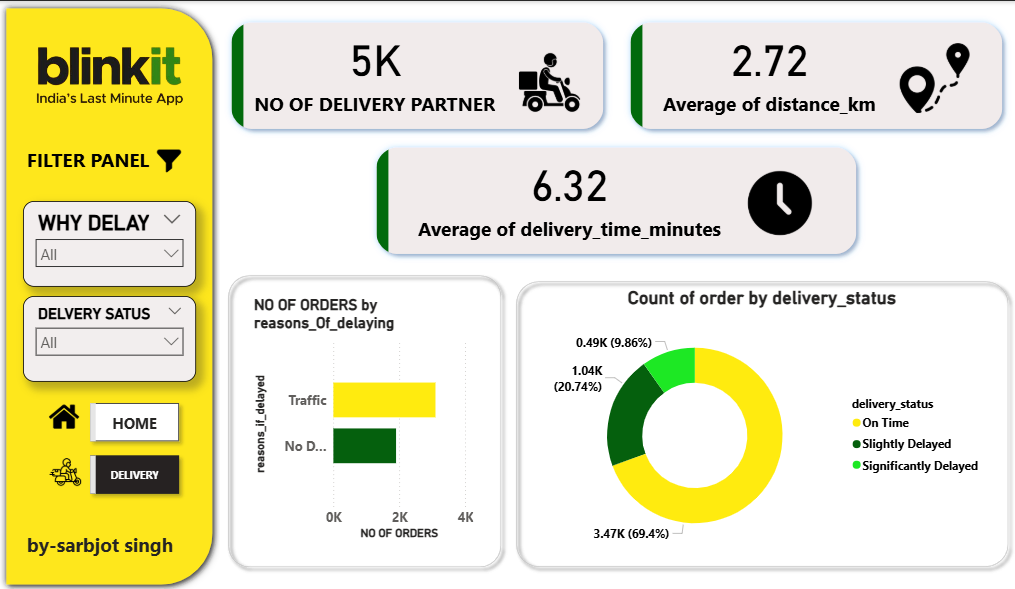

This screenshot's page, from the dashboard's own definition file:
{"tool":"powerbi","page":{"name":"DELIVERY","canvas":[1280,743],"ordinal":1},"visuals":[{"type":"shape","box":[0,0,278,744],"z":0},{"type":"image","box":[16,36,246,116],"z":1000},{"type":"pageNavigator","box":[106,498,130,132],"z":2000},{"type":"image","box":[58,498,48,52],"z":3000},{"type":"image","box":[58,564,52,60],"z":4000},{"type":"donutChart","title":"Count of order by delivery_status","fields":{"Category":["blinkit_delivery_performance_clean.delivery_status"],"Y":["CountNonNull(blinkit_delivery_performance_clean.order_id)"]},"box":[674,360,574,348],"z":5000},{"type":"shape","box":[642,344,638,378],"z":6000},{"type":"cardVisual","fields":{"Data":["Count(blinkit_delivery_performance_clean.delivery_partner_id)"]},"box":[276,10,502,168],"z":7000},{"type":"cardVisual","fields":{"Data":["Avg(blinkit_delivery_performance_clean.distance_km)"]},"box":[778,10,502,168],"z":8000},{"type":"cardVisual","fields":{"Data":["Avg(blinkit_delivery_performance_clean.delivery_time_minutes)"]},"box":[458,168,638,168],"z":9000},{"type":"slicer","fields":{"Values":["blinkit_delivery_performance_clean.reasons_if_delayed"]},"box":[30,252,218,108],"z":10000},{"type":"slicer","fields":{"Values":["blinkit_delivery_performance_clean.delivery_status"]},"box":[30,372,218,108],"z":11000},{"type":"clusteredBarChart","title":"NO OF ORDERS by reasons_Of_delaying","fields":{"Category":["blinkit_delivery_performance_clean.reasons_if_delayed"],"Y":["BlinkIT Grocery Data.NO OF ORDERS"]},"box":[316,372,286,312],"z":12000},{"type":"shape","box":[280,336,362,386],"z":13000},{"type":"image","box":[180,178,68,46],"z":14000},{"type":"textbox","box":[30,178,432,74],"z":15000},{"type":"textbox","box":[30,662,218,82],"z":15001}]}

Visuals, with their boxes in screenshot pixels (x1, y1, x2, y2), scaled from the page's 1280x743 canvas onto the 1015x589 screenshot:
shape: left=0, top=0, right=220, bottom=588
image: left=13, top=29, right=208, bottom=120
pageNavigator: left=84, top=395, right=187, bottom=499
image: left=46, top=395, right=84, bottom=436
image: left=46, top=447, right=87, bottom=495
"Count of order by delivery_status" donutChart: left=534, top=285, right=990, bottom=561
shape: left=509, top=273, right=1014, bottom=572
cardVisual - Count(blinkit_delivery_performance_clean.delivery_partner_id): left=219, top=8, right=617, bottom=141
cardVisual - Avg(blinkit_delivery_performance_clean.distance_km): left=617, top=8, right=1014, bottom=141
cardVisual - Avg(blinkit_delivery_performance_clean.delivery_time_minutes): left=363, top=133, right=869, bottom=266
slicer - blinkit_delivery_performance_clean.reasons_if_delayed: left=24, top=200, right=197, bottom=285
slicer - blinkit_delivery_performance_clean.delivery_status: left=24, top=295, right=197, bottom=381
"NO OF ORDERS by reasons_Of_delaying" clusteredBarChart: left=251, top=295, right=477, bottom=542
shape: left=222, top=266, right=509, bottom=572
image: left=143, top=141, right=197, bottom=178
textbox: left=24, top=141, right=366, bottom=200
textbox: left=24, top=525, right=197, bottom=588
